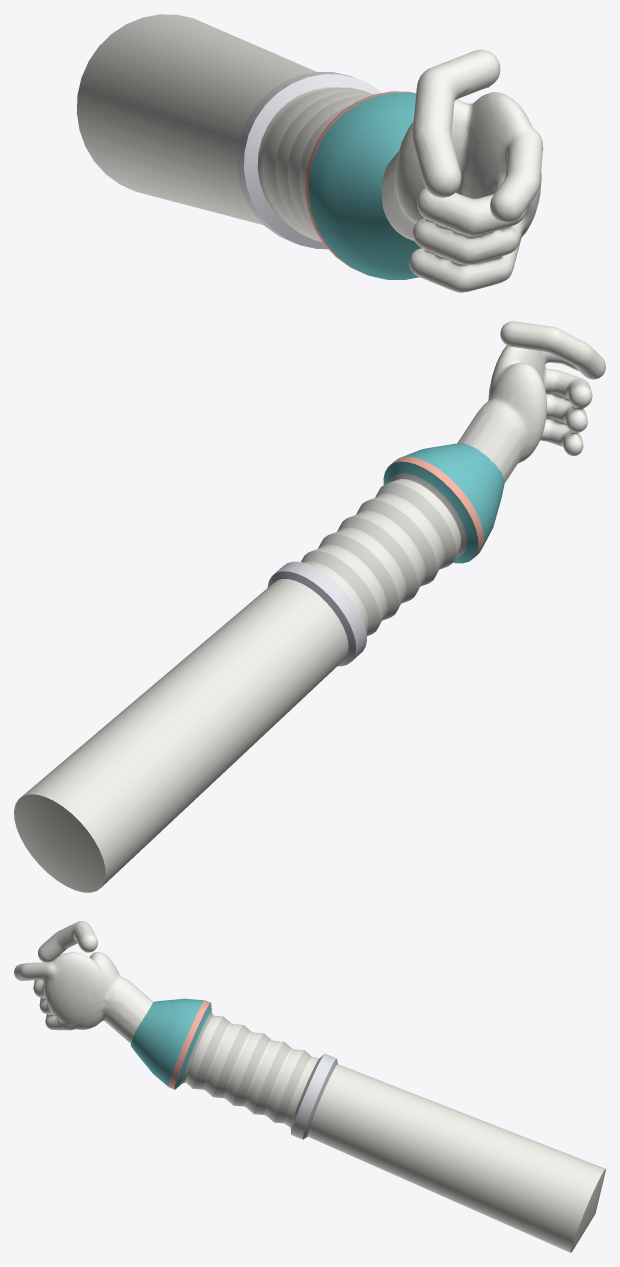
Rendered from ic_hand_left.glb.
The picture shows the model from 3 angles, top to bottom: view 1: azimuth 30°, elevation 25°; view 2: azimuth 150°, elevation 25°; view 3: azimuth 270°, elevation 25°; orthographic projection. The views are drawn at different scales.
Visible parts, largest first — view 1: ic_hand_left_sleeve, ic_hand_left_glove; view 2: ic_hand_left_sleeve, ic_hand_left_glove; view 3: ic_hand_left_sleeve, ic_hand_left_glove.
Part boxes in pixels (x1,y1,x2,y2): ic_hand_left_sleeve: (76,14,421,279); ic_hand_left_glove: (381,49,543,292); ic_hand_left_sleeve: (14,443,504,892); ic_hand_left_glove: (457,321,605,483); ic_hand_left_sleeve: (130,998,605,1252); ic_hand_left_glove: (14,921,153,1043).
Size of the model in its own units: 0.2613 by 0.38 by 0.7517.
